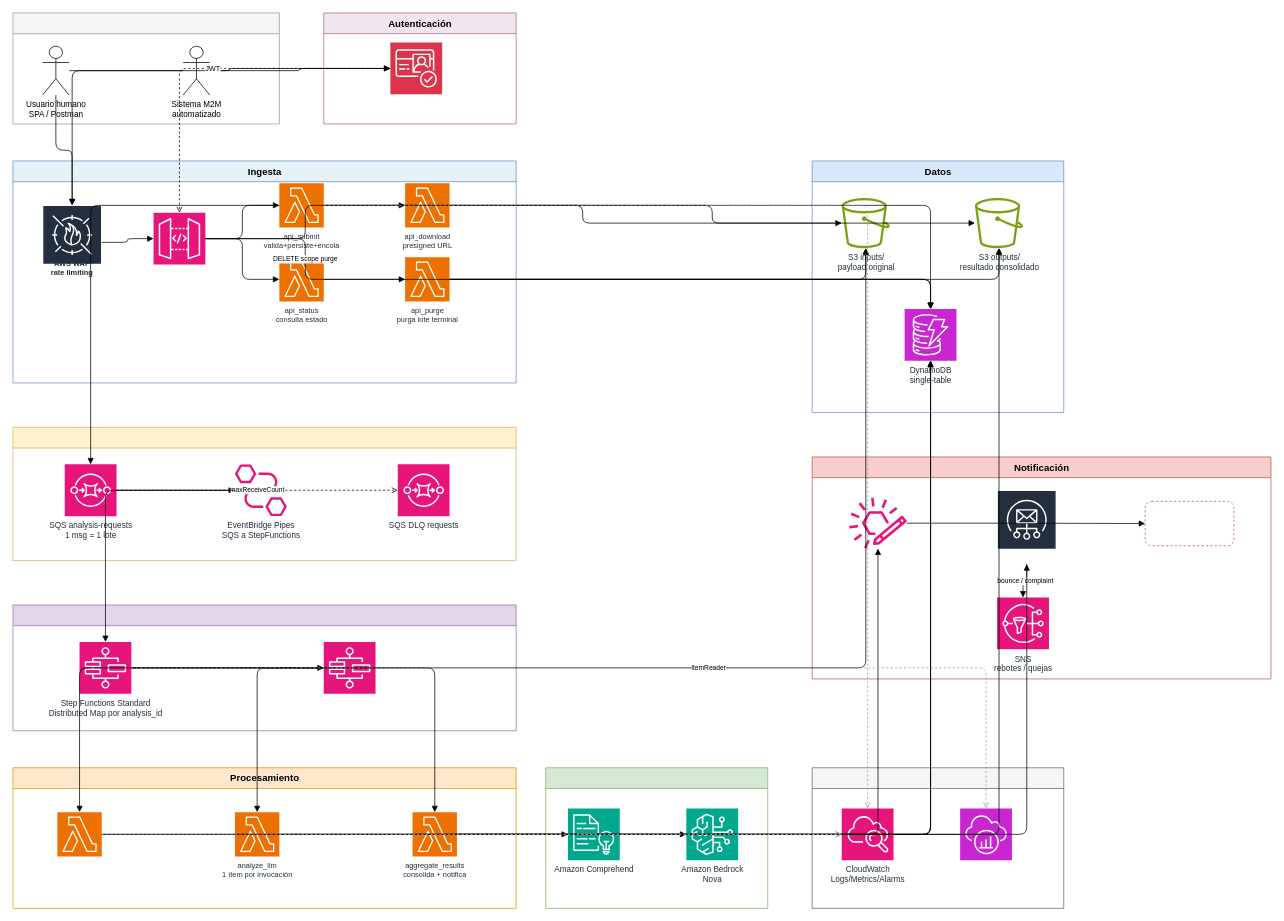
The diagram is 1284 pixels wide and 921 high, and some of its shapes have lost their labels. Each missing label, with the box of its shape:
Amazon SES identidad + config set: (996, 490, 1056, 564)
analyze_comprehend batch de 25 docs: (57, 811, 102, 857)
API Gateway REST JWT Authorizer Usage Plan / Throttling: (153, 212, 205, 265)
AWS X-Ray tracing: (959, 808, 1012, 860)
Buffer: (12, 427, 516, 561)
Clientes: (12, 12, 279, 124)
Cognito User Pool + Resource Server client_credentials: (390, 42, 442, 94)
EventBridge Bus analysis.completed: (849, 497, 906, 548)
Express child workflow por batch de ítems: (323, 641, 376, 694)
IA gestionada: (545, 767, 768, 908)
Observabilidad: (811, 767, 1064, 908)
Orquestación: (12, 604, 516, 731)
Webhook del cliente: (1144, 501, 1234, 546)
